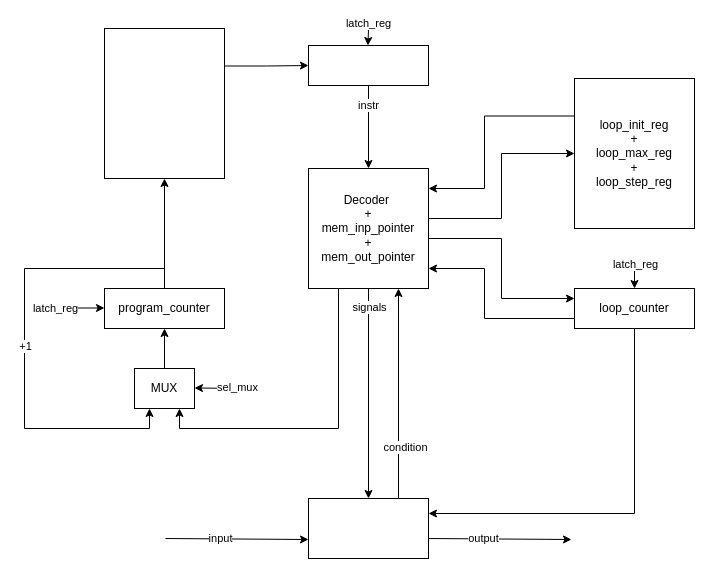
The diagram is 712 pixels wide and 577 high, and some of its shapes have lost their labels. The shapes that lost their labels are listed below. From the top down, each one's centre as x and y in pixels, then its label:
the point at 368,65: instr_latch
the point at 164,103: Memory
the point at 368,528: DataPath
